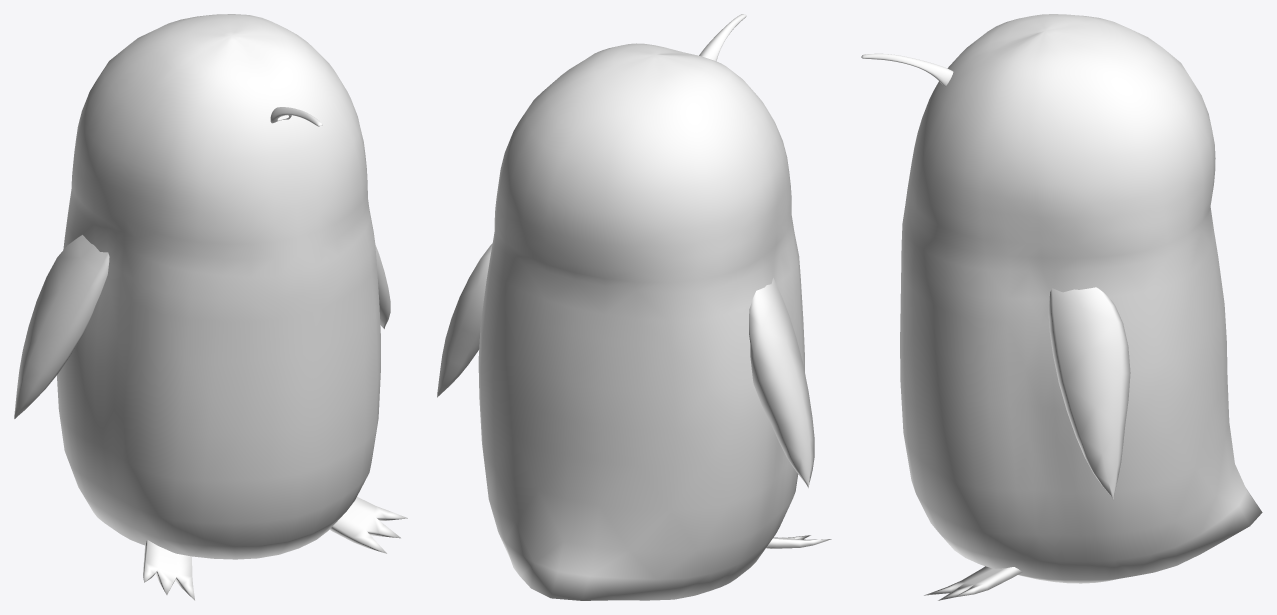
The model's file is ch_emp.fbx.
3 renders of one model, left to right at view 1: azimuth 30°, elevation 25°; view 2: azimuth 150°, elevation 25°; view 3: azimuth 270°, elevation 25°, orthographic. The views are drawn at different scales.
Visible parts, largest first — view 1: ch_emp; view 2: ch_emp; view 3: ch_emp.
Boxes of the visible parts, <box> form: ch_emp: <box>14,14,407,600</box>; ch_emp: <box>437,14,831,600</box>; ch_emp: <box>861,14,1262,600</box>.
Bounding box in the file's own units: 49.28 × 63.45 × 44.61.
